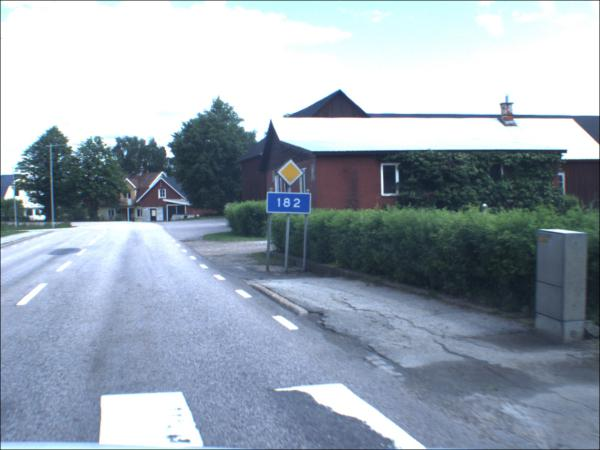PRIORITY_ROAD: (279, 158, 306, 187)
